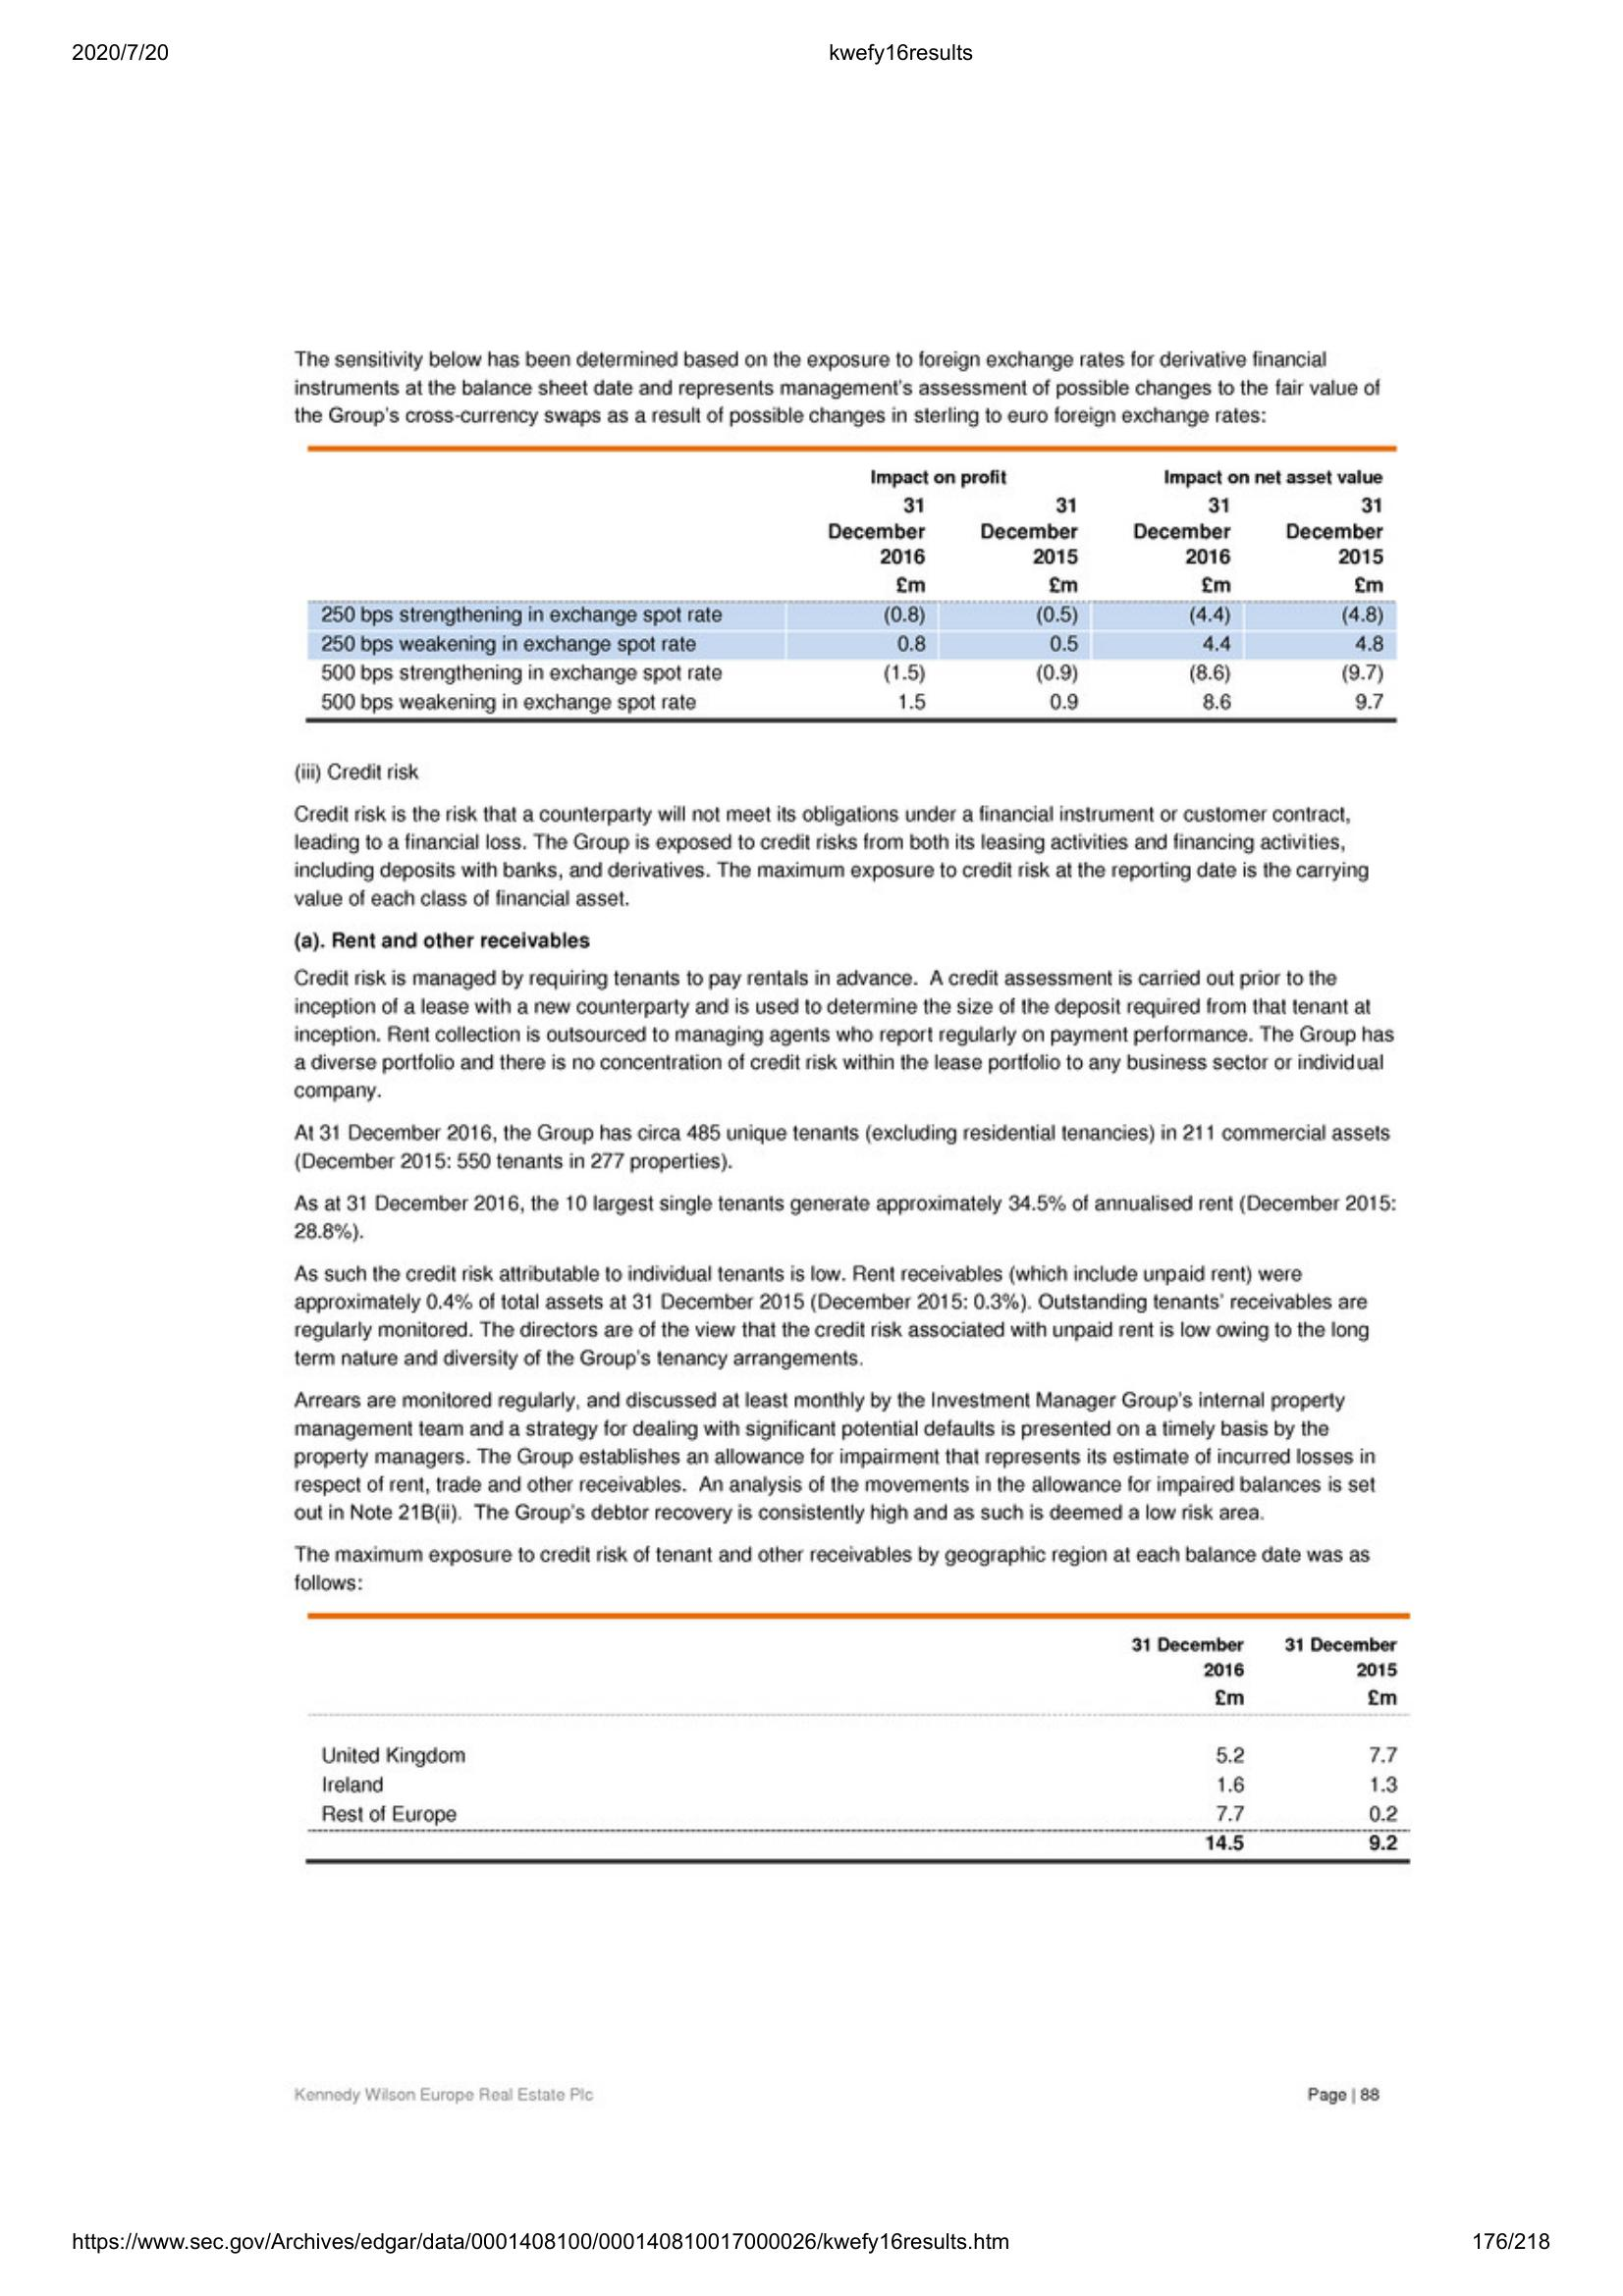table: (293, 435, 1403, 725), (297, 1604, 1417, 1878)
